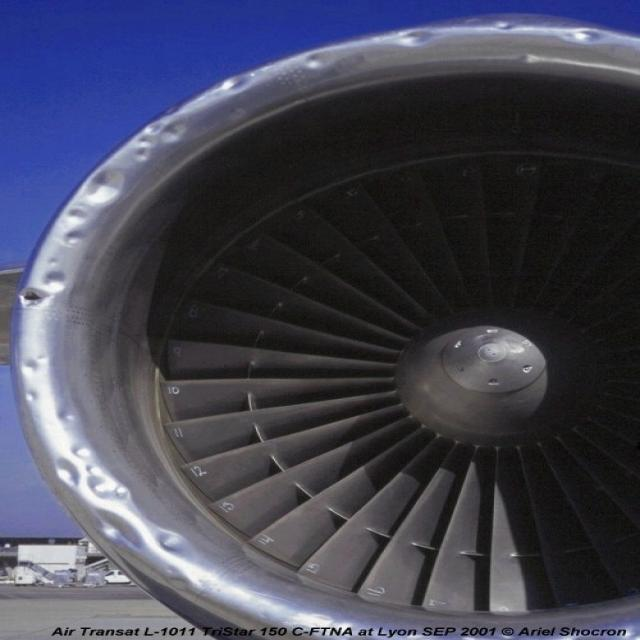dent: (47, 446, 209, 599), (75, 166, 132, 208)
